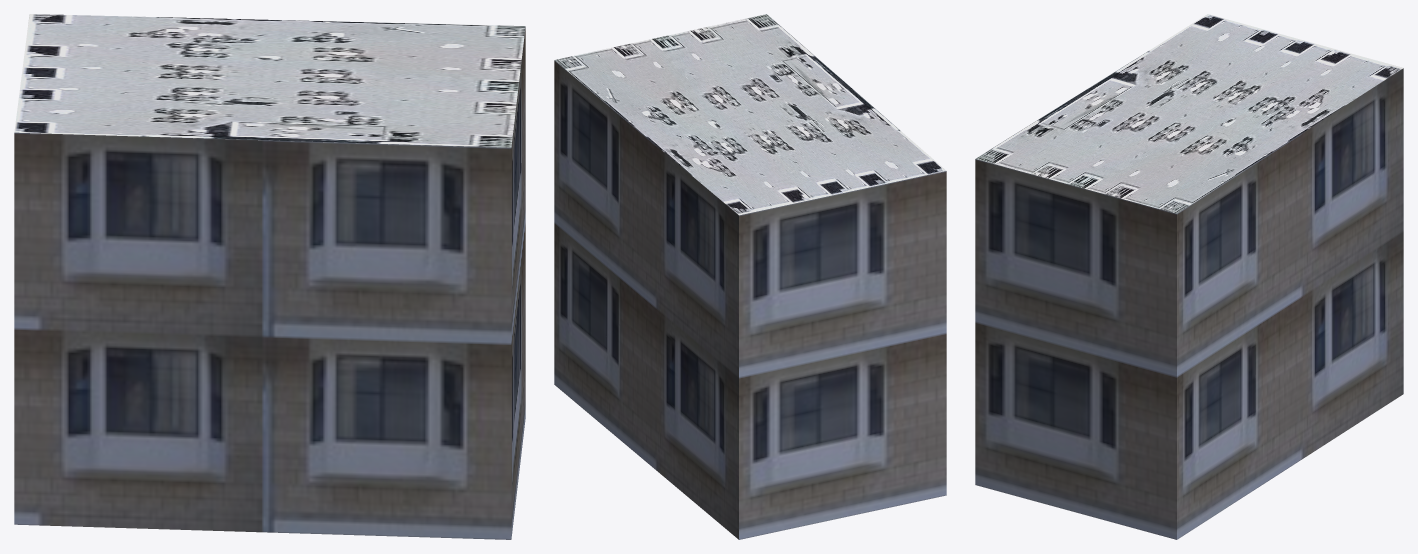
Rendered from ResTex__1899.fbx.
3 views of the same model, side by side, from view 1: azimuth 30°, elevation 25°; view 2: azimuth 150°, elevation 25°; view 3: azimuth 270°, elevation 25° (orthographic). The views are drawn at different scales.
Parts seen in each view (by area): view 1: CityEngineMaterial_3_m, CityEngineMaterial_m; view 2: CityEngineMaterial_3_m, CityEngineMaterial_m; view 3: CityEngineMaterial_3_m, CityEngineMaterial_m.
Part boxes in pixels (box(x1,y1,x2,y2)): CityEngineMaterial_3_m: box(14, 27, 525, 539); CityEngineMaterial_m: box(14, 14, 525, 147); CityEngineMaterial_3_m: box(554, 60, 946, 539); CityEngineMaterial_m: box(554, 14, 946, 215); CityEngineMaterial_3_m: box(975, 68, 1403, 539); CityEngineMaterial_m: box(975, 14, 1403, 213).
Size of the model in its own units: 7.89 by 6 by 7.15.
Materials: 2 (2 with a texture image).
